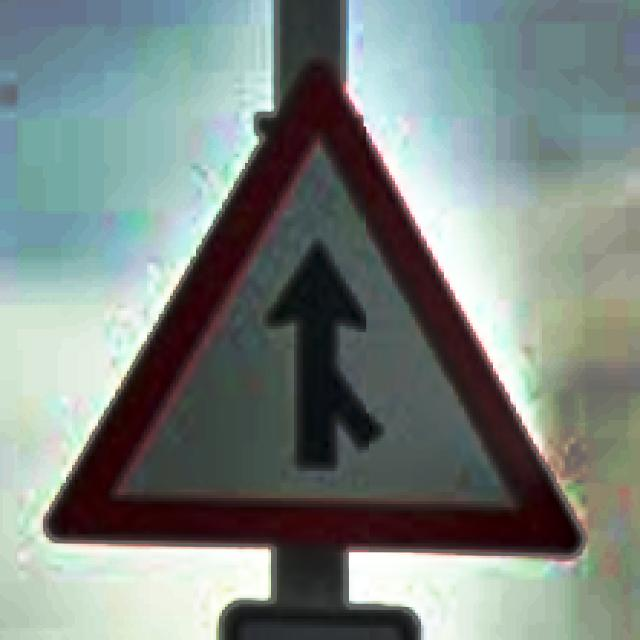rightmerge: (45, 60, 582, 555)
